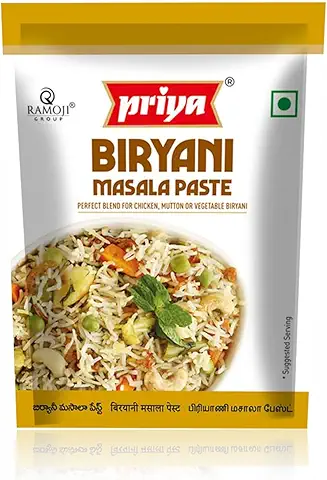Biryani: (2, 4, 318, 437)
